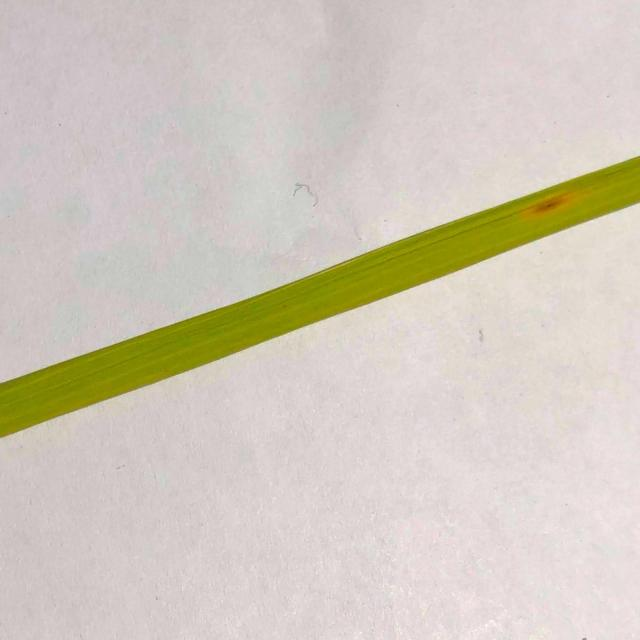Brown spot: (526, 191, 580, 219)
